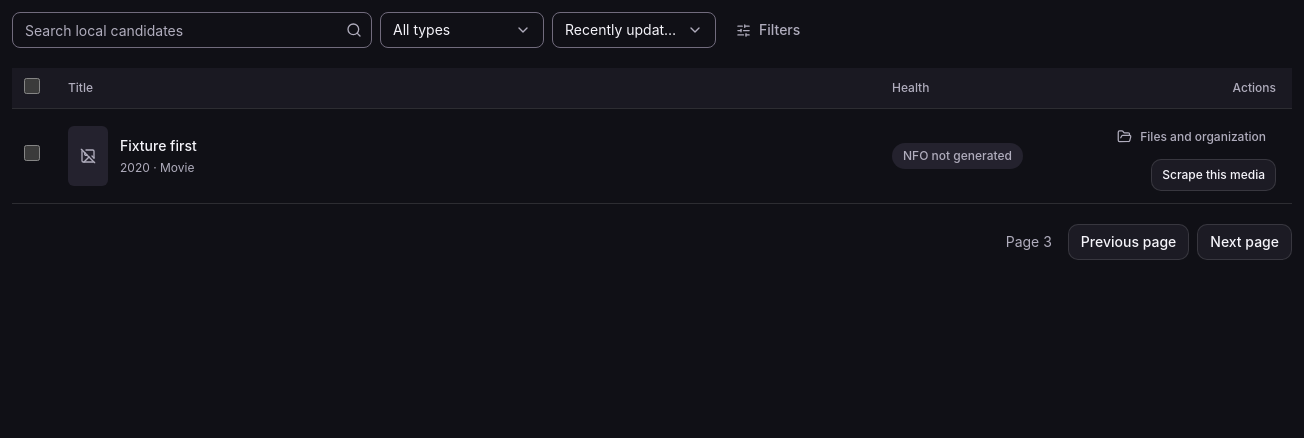
Test: clears stale page and batch selection when the Library root filter changes
The width and height of the screenshot is (1304, 438).
Click the checkbox named "Select for scraping: Fixture first": (32, 153) left=24, top=145, right=40, bottom=161
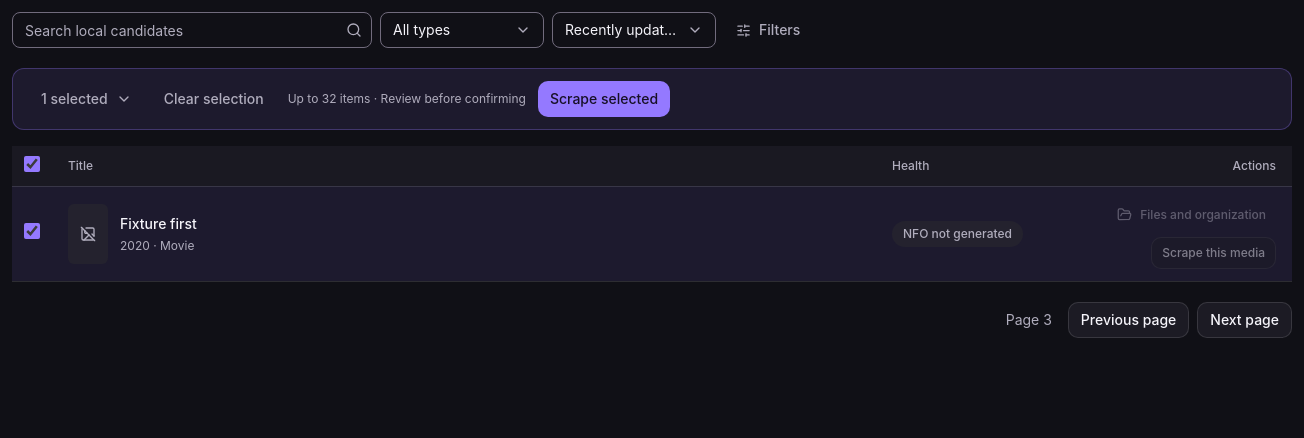
Click the button "Filters": (768, 30) left=724, top=12, right=812, bottom=48
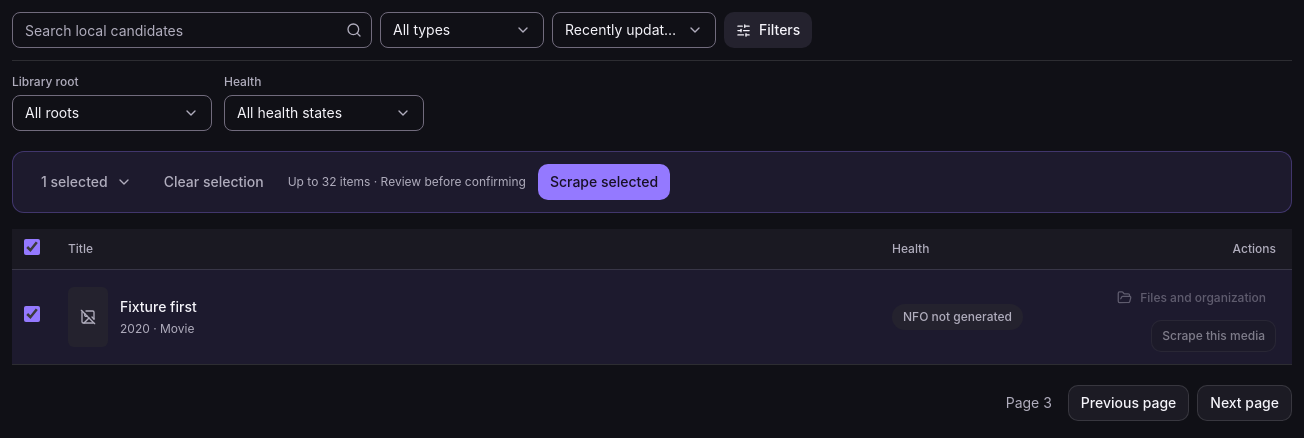
Click the dropdown named "Library root": (112, 113) left=12, top=95, right=212, bottom=131
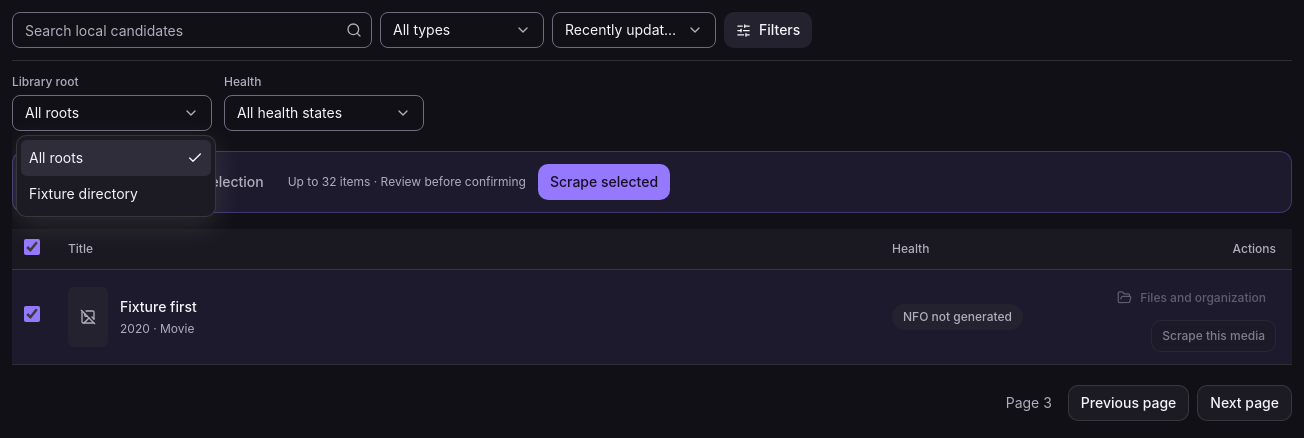
Click the option "Fixture directory": (116, 194) left=21, top=176, right=211, bottom=212
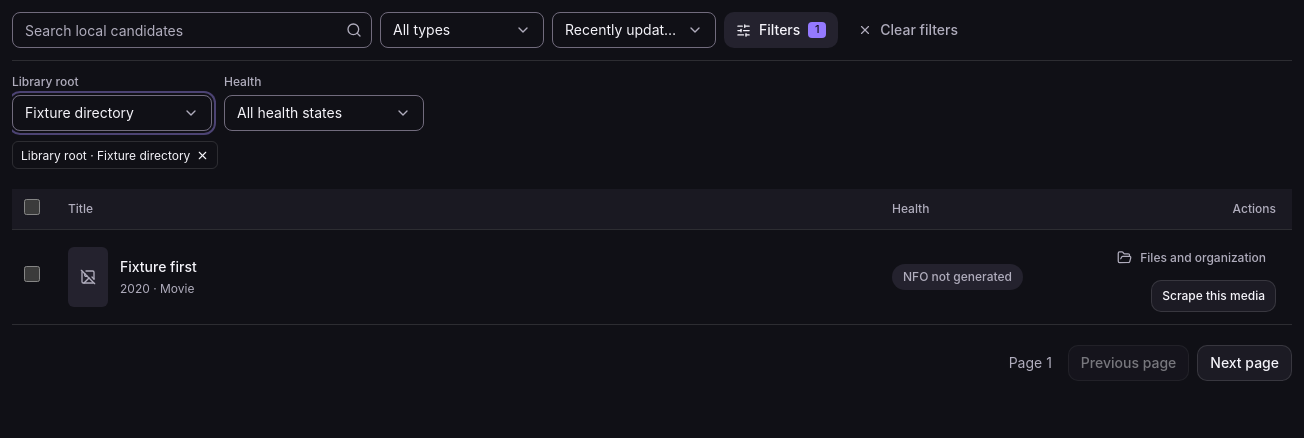
Now the text "Page 1" is shown, box left=1009, top=353, right=1052, bottom=373
Now the button "Scrape selected" is gone
